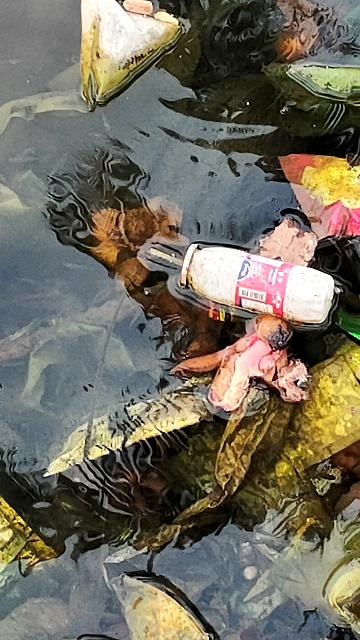bottle: (167, 230, 344, 338)
